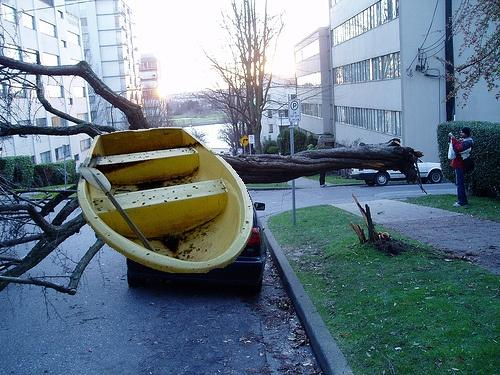tampered: (78, 128, 253, 273)
